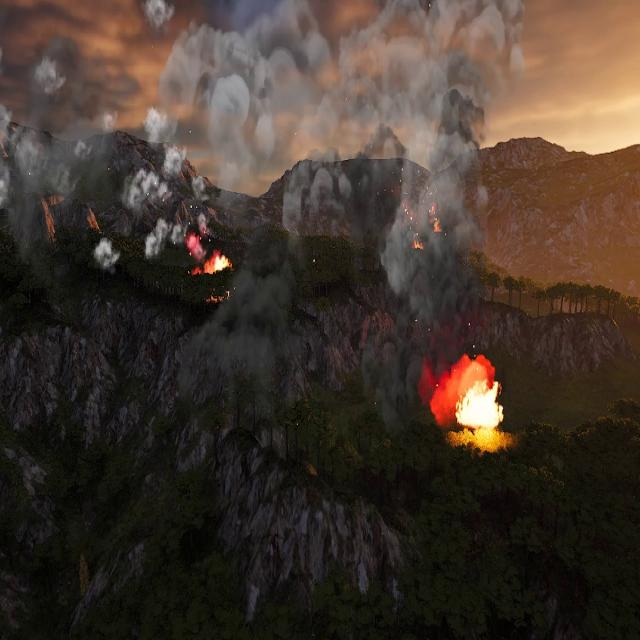fire: (429, 354, 505, 429), (457, 364, 502, 425), (193, 251, 231, 275), (204, 290, 233, 302), (412, 239, 425, 251), (434, 220, 442, 235)
smoke: (0, 0, 533, 446), (94, 236, 120, 271)
